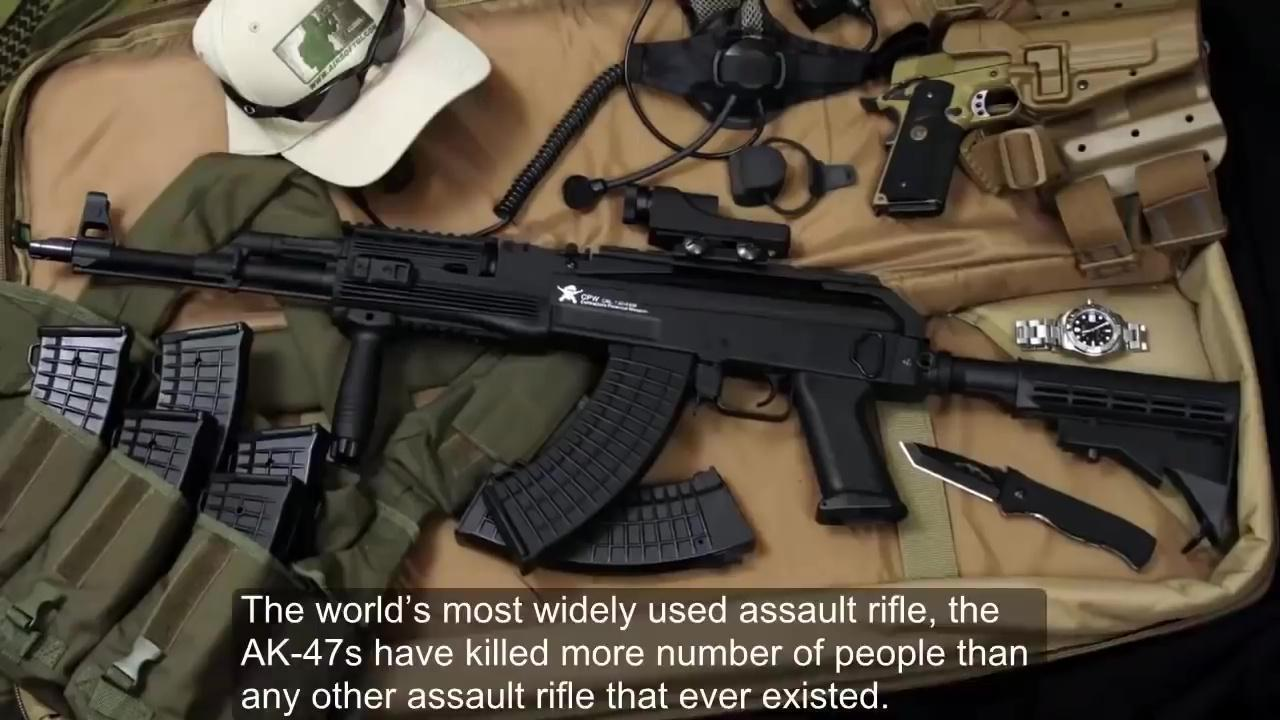Gun: (3, 182, 1244, 556)
Knife: (900, 433, 1156, 573)
Pistol: (885, 5, 1219, 210)
